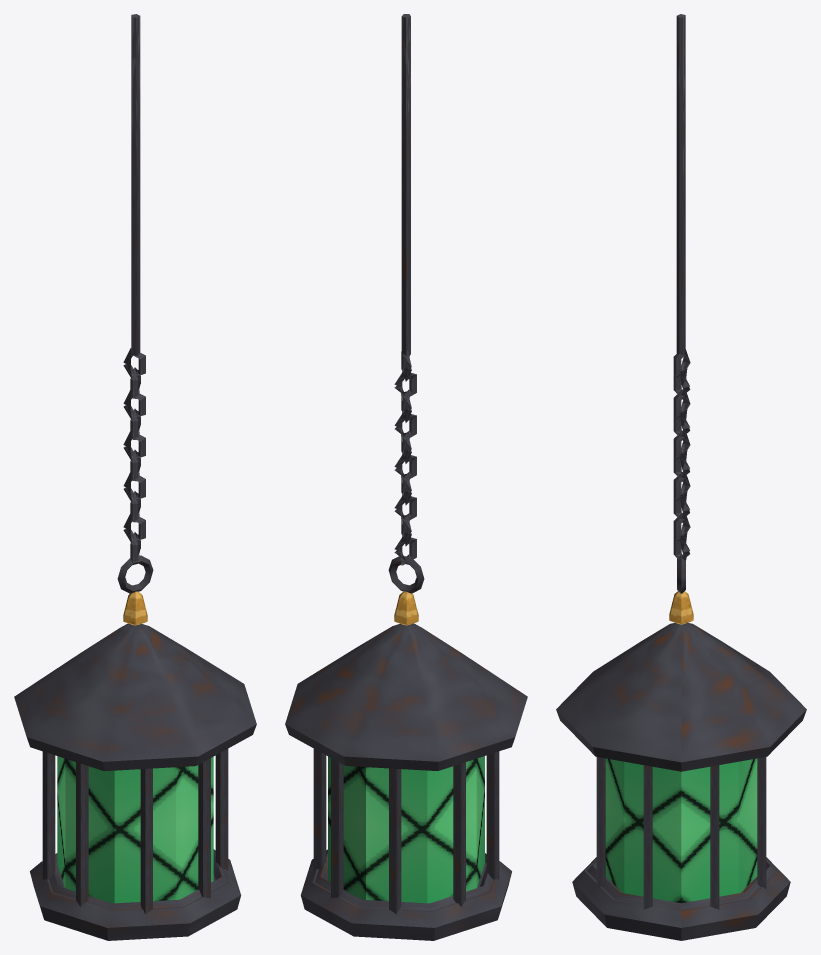
File: Lamp_Emerald.fbx
3 views of the same model, side by side, from view 1: azimuth 30°, elevation 25°; view 2: azimuth 150°, elevation 25°; view 3: azimuth 270°, elevation 25° (orthographic).
Visible parts, largest first — view 1: Lamp_Emerald; view 2: Lamp_Emerald; view 3: Lamp_Emerald.
Part boxes in pixels (box(x1,y1,x2,y2)): Lamp_Emerald: box(14, 14, 256, 940); Lamp_Emerald: box(285, 14, 527, 940); Lamp_Emerald: box(556, 14, 806, 940).
Size of the model in its own units: 0.62 by 2.4 by 0.62.
2 materials, 2 textured.
